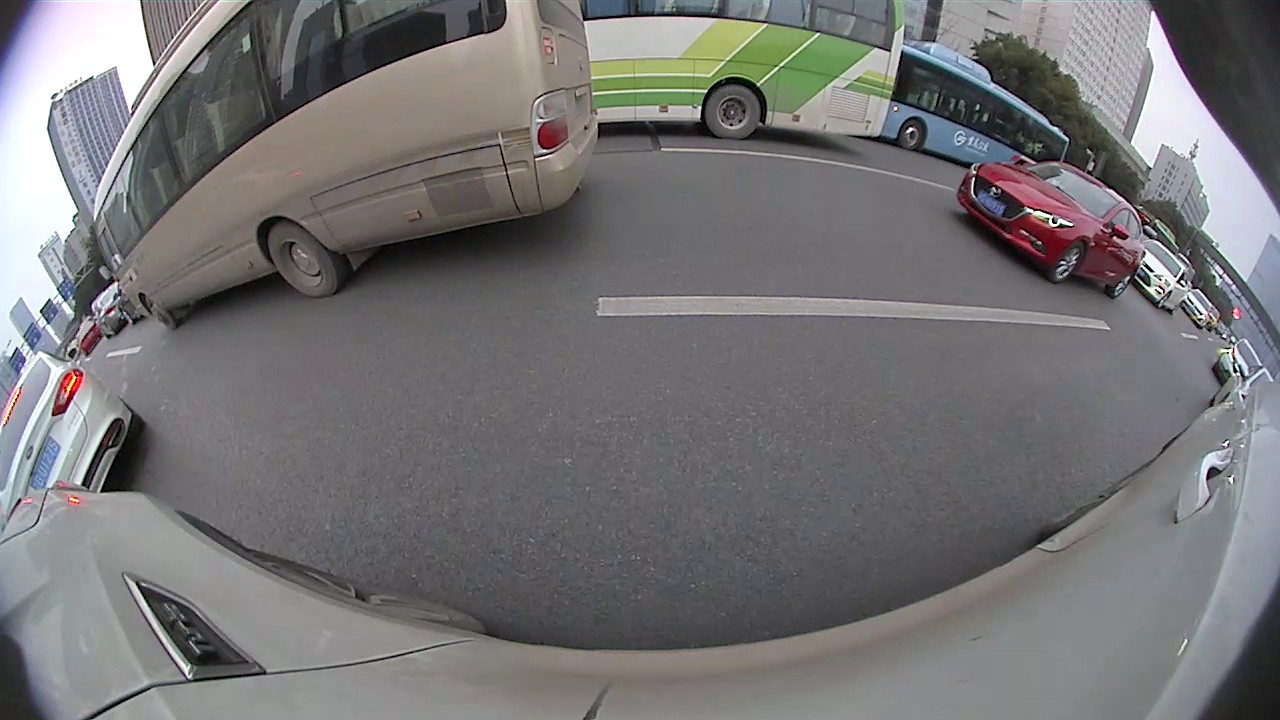bus: (91, 3, 602, 336), (574, 1, 909, 143), (879, 42, 1072, 163)
car: (952, 162, 1151, 300), (0, 352, 136, 524), (1137, 235, 1196, 315), (1211, 333, 1265, 392), (92, 277, 126, 343), (1183, 281, 1216, 330)
front: (1050, 244, 1088, 281), (144, 294, 178, 329), (900, 119, 922, 151)
rear: (267, 225, 341, 297), (702, 85, 759, 139), (1106, 271, 1135, 298)
